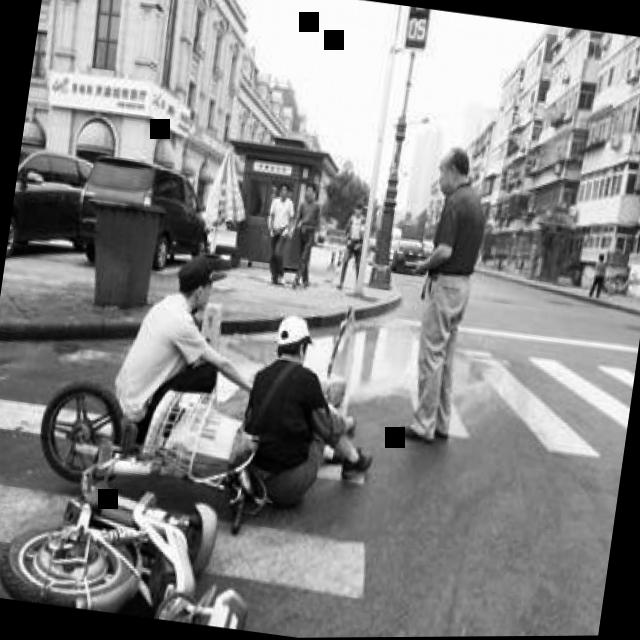Fall-Detected: (220, 292, 398, 514)
